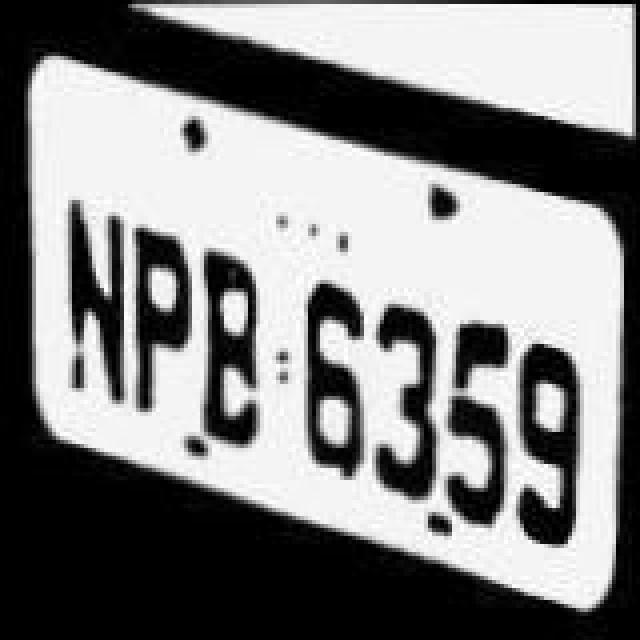3: (370, 246, 450, 514)
5: (446, 256, 526, 528)
6: (292, 260, 372, 496)
9: (510, 286, 590, 562)
B: (192, 242, 272, 454)
N: (56, 192, 136, 424)
P: (126, 220, 202, 432)
